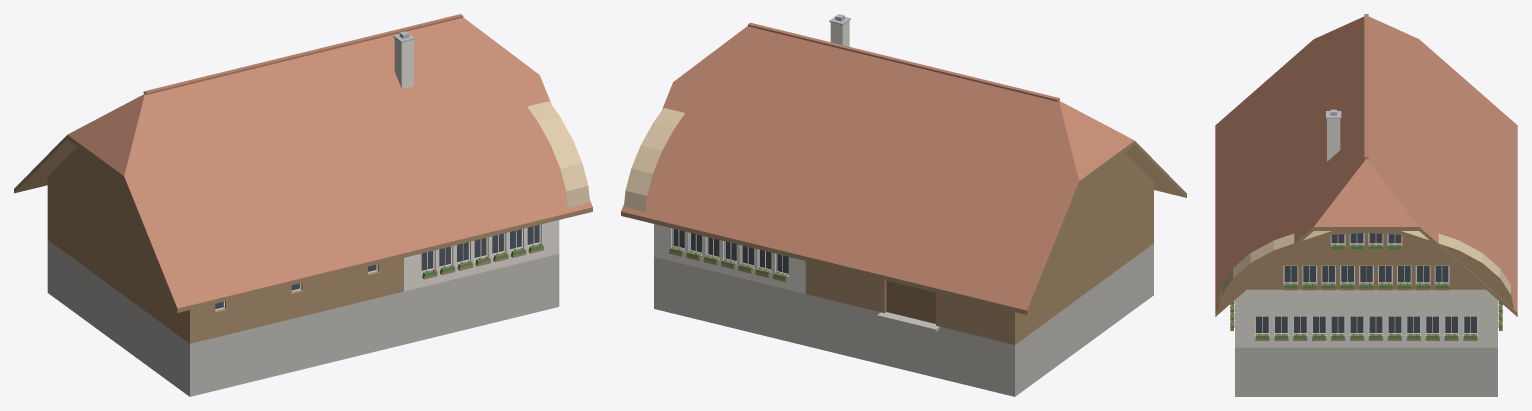
File: farmhouse_l.glb
3 views of the same model, side by side, from view 1: azimuth 30°, elevation 25°; view 2: azimuth 150°, elevation 25°; view 3: azimuth 270°, elevation 25° (orthographic). The views are drawn at different scales.
Parts seen in each view (by area): view 1: farmhouse_l; view 2: farmhouse_l; view 3: farmhouse_l.
Boxes of the visible parts, x1=… form: farmhouse_l: x1=14, y1=14, x2=592, y2=396; farmhouse_l: x1=621, y1=14, x2=1186, y2=396; farmhouse_l: x1=1215, y1=14, x2=1517, y2=396.
Bounding box in the file's own units: 27 × 16.11 × 18.4.
